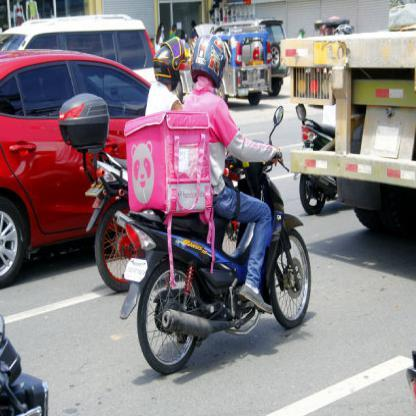Motorcycle: (122, 149, 314, 375)
